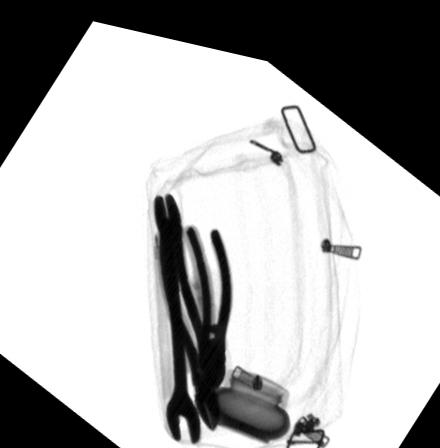Pliers: (155, 217, 221, 420)
Wrench: (154, 183, 200, 435)
